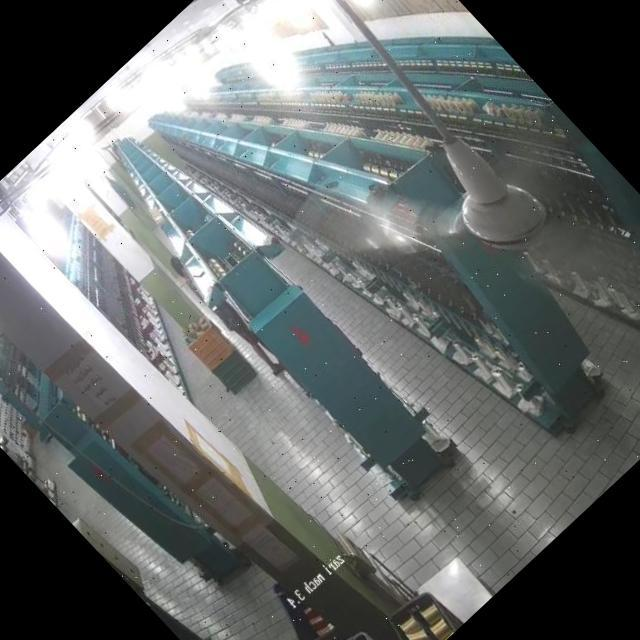person: (168, 251, 290, 380)
